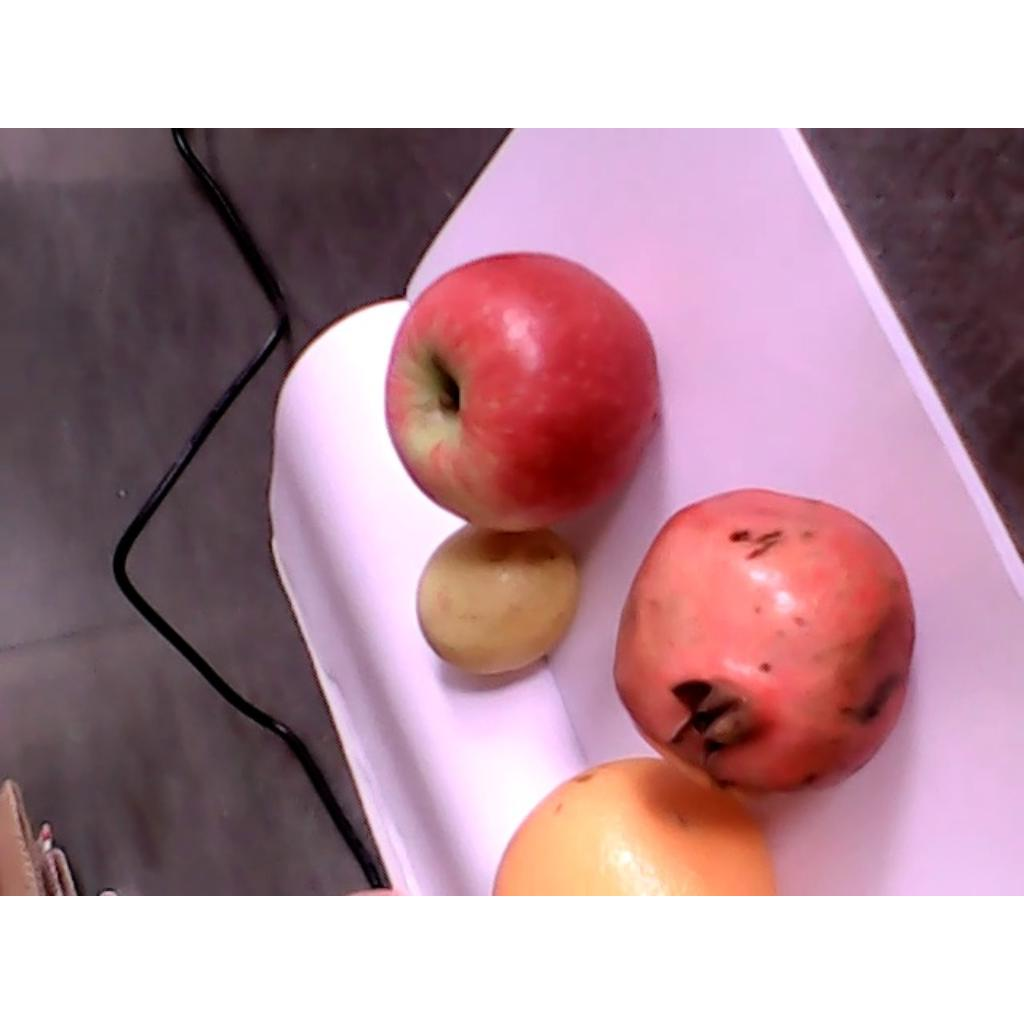apple: (383, 254, 657, 527)
lemon: (415, 520, 580, 674)
orange: (493, 757, 778, 894)
pomegranate: (614, 488, 915, 796)
